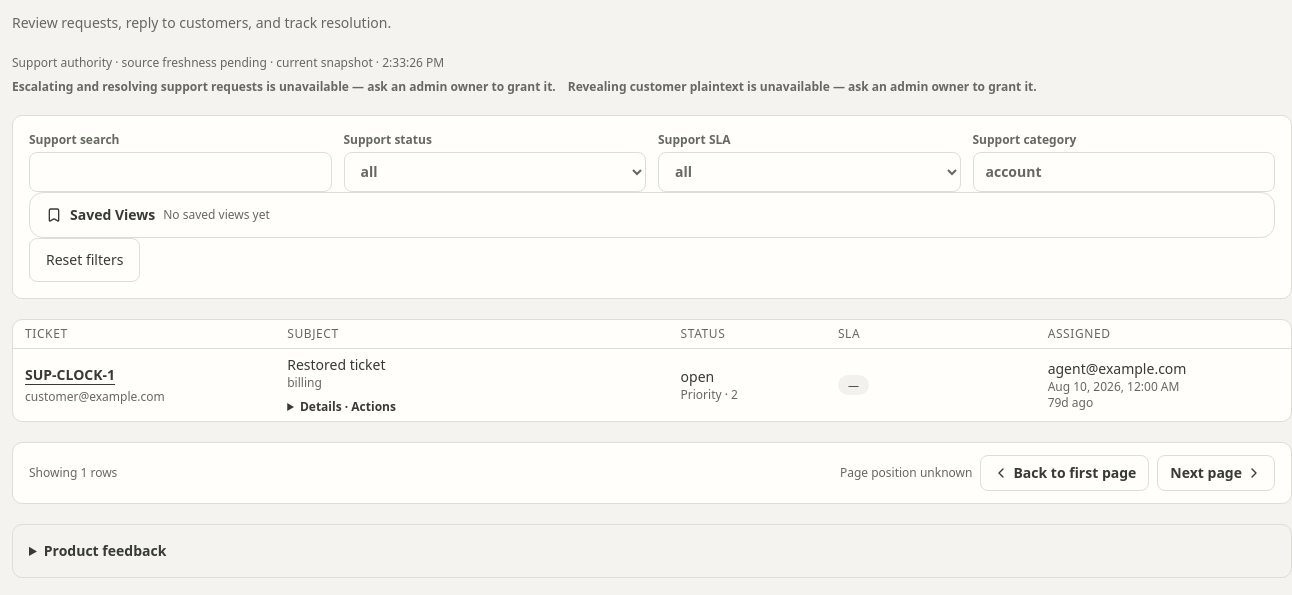
Scenario: SupportWorkspace mounted URL state › keeps restored Support cursor positions unknown through next and previous after mount
This screenshot has width=1292, height=595.
Expected: the element with test id "admin-pagination" shows "Page position unknown", [840,464,972,481]
Expected: the element with test id "admin-pagination" does not show "Page 1"
Click the button "Next page" at [1216, 473], box [1157,455,1275,491]
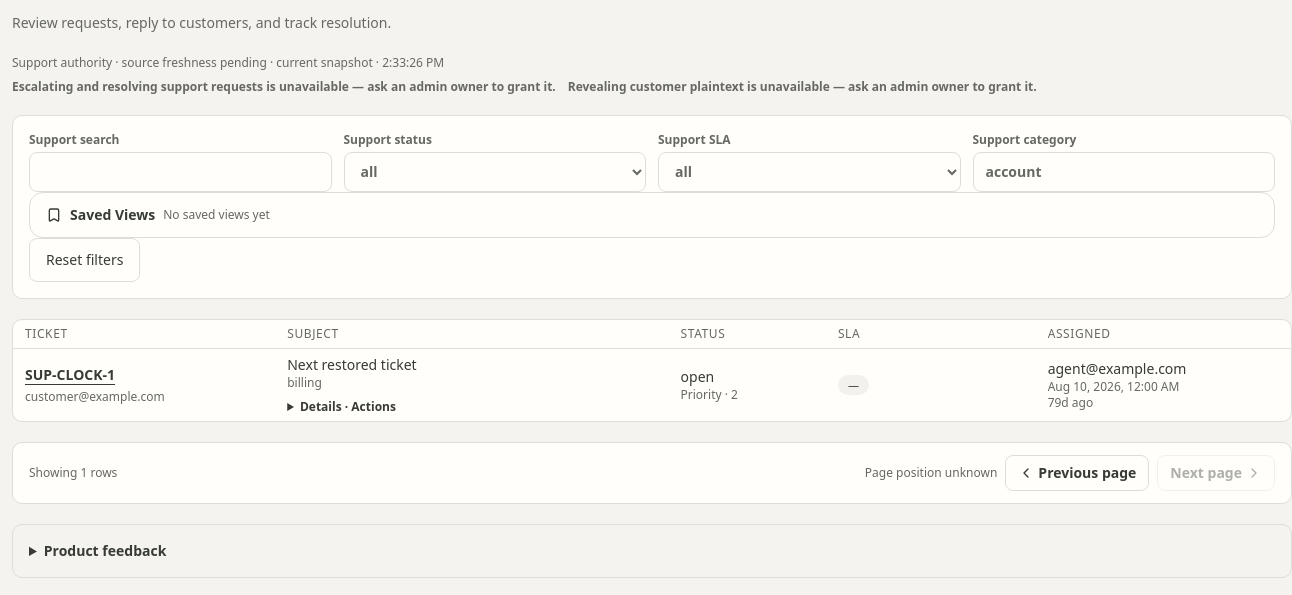
Expected: the element with test id "admin-pagination" shows "Page position unknown", [865,464,997,481]
Click the button "Previous page" at [1077, 473], box [1005,455,1149,491]
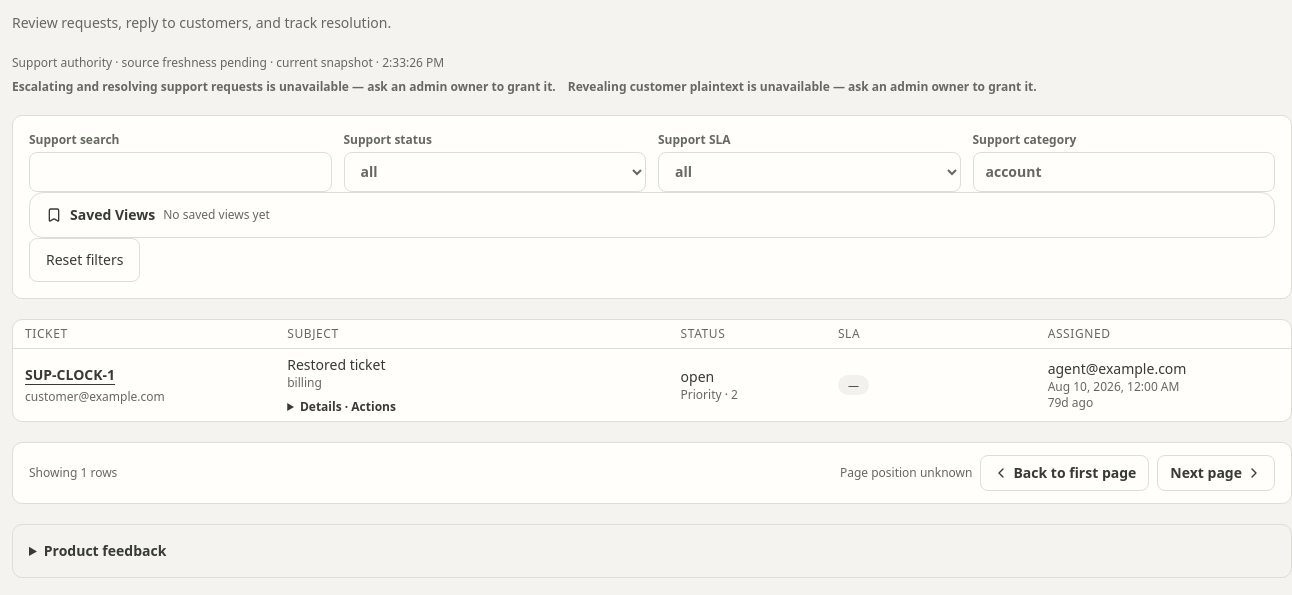
Expected: the element with test id "admin-pagination" shows "Page position unknown", [840,464,972,481]
Click the button "Back to first page" at [1065, 473], box [980,455,1149,491]
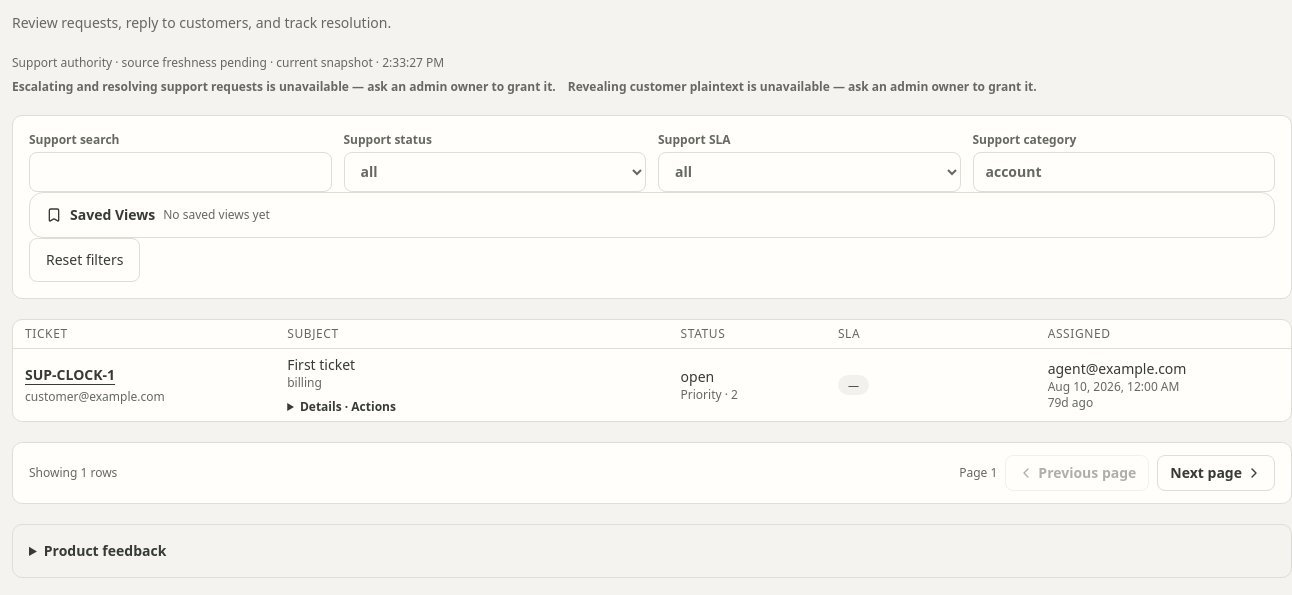
Expected: the element with test id "admin-pagination" shows "Page 1", [959,464,997,481]
Expected: the button "Previous page" is disabled, [1005,455,1149,491]
